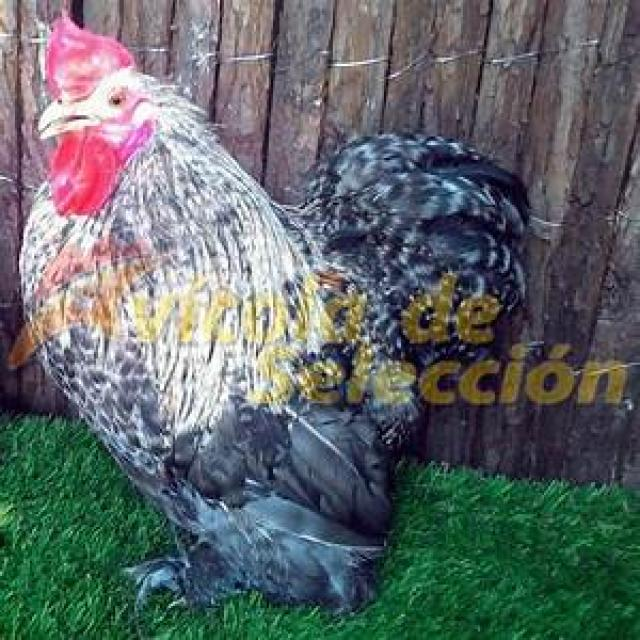hen: (6, 4, 527, 617)
